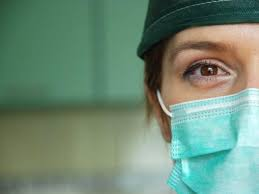mask: (143, 0, 258, 193)
